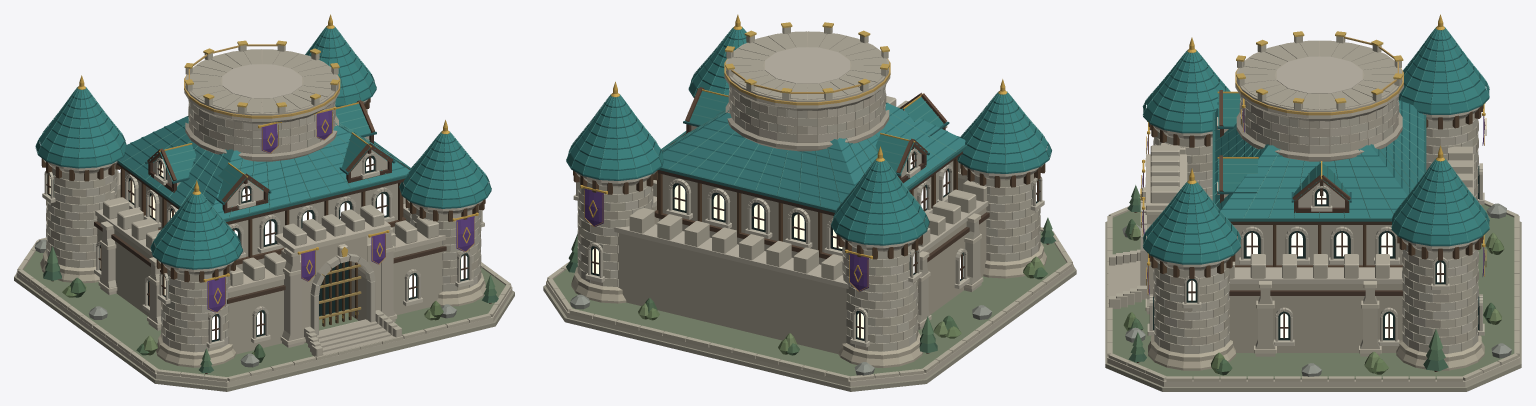
3 views of the same model, side by side, from view 1: azimuth 30°, elevation 25°; view 2: azimuth 150°, elevation 25°; view 3: azimuth 270°, elevation 25° (orthographic). The views are drawn at different scales.
Visible parts, largest first — view 1: Castle / Limestone, Castle / Patina, Castle / Oak, Castle / Ground, Castle / Gilt, Castle / Violet, Castle / Recess, Castle / Foliage, Castle / Lantern; view 2: Castle / Limestone, Castle / Patina, Castle / Ground, Castle / Oak, Castle / Gilt, Castle / Foliage, Castle / Lantern, Castle / Recess, Castle / Violet; view 3: Castle / Limestone, Castle / Patina, Castle / Ground, Castle / Oak, Castle / Foliage, Castle / Gilt, Castle / Recess, Castle / Lantern.
Part boxes in pixels (x1,y1,x2,y2): Castle / Limestone: [14, 45, 514, 391]; Castle / Patina: [35, 26, 491, 269]; Castle / Oak: [41, 98, 491, 373]; Castle / Ground: [23, 251, 505, 376]; Castle / Gilt: [77, 14, 478, 323]; Castle / Violet: [207, 110, 474, 312]; Castle / Recess: [47, 155, 468, 341]; Castle / Foliage: [43, 246, 498, 372]; Castle / Lantern: [49, 158, 467, 339]; Castle / Limestone: [543, 27, 1076, 391]; Castle / Patina: [566, 27, 1051, 245]; Castle / Ground: [553, 231, 1066, 376]; Castle / Oak: [573, 87, 1048, 353]; Castle / Gilt: [580, 14, 1007, 291]; Castle / Foliage: [566, 217, 1055, 355]; Castle / Lantern: [592, 155, 1036, 338]; Castle / Recess: [591, 151, 1039, 340]; Castle / Violet: [584, 188, 868, 291]; Castle / Limestone: [1105, 36, 1521, 391]; Castle / Patina: [1142, 27, 1489, 264]; Castle / Ground: [1112, 204, 1514, 379]; Castle / Oak: [1134, 90, 1483, 371]; Castle / Foliage: [1123, 185, 1504, 375]; Castle / Gilt: [1140, 14, 1486, 294]; Castle / Recess: [1153, 165, 1479, 340]; Castle / Lantern: [1188, 191, 1443, 337].
Bounding box in the file's own units: 22 × 12.45 × 20.4.
